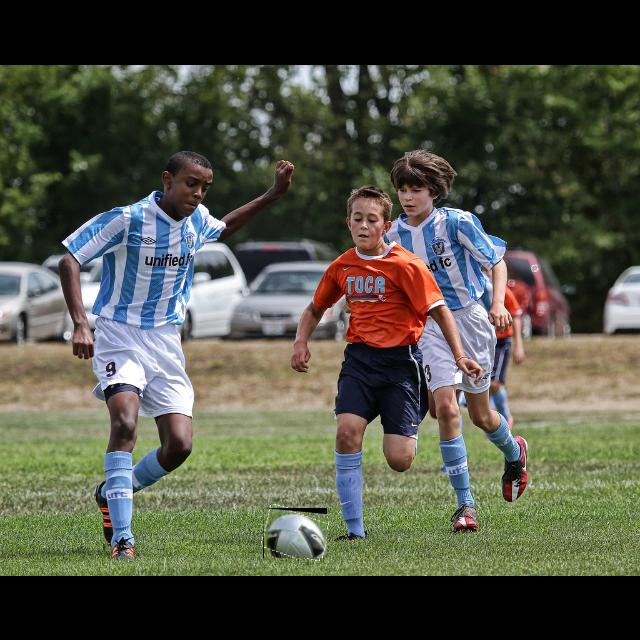Football: (263, 508, 327, 558)
